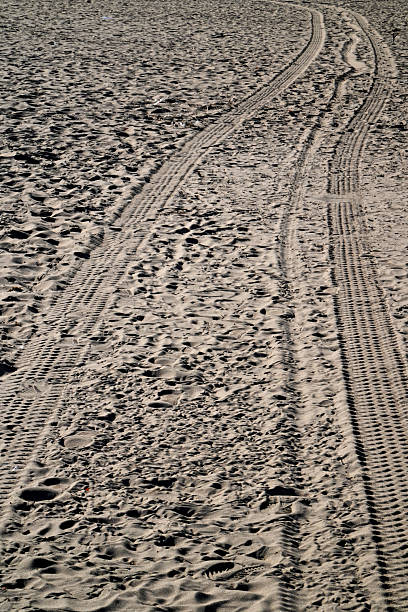vehicle_track: (0, 9, 324, 503), (328, 13, 407, 609)
